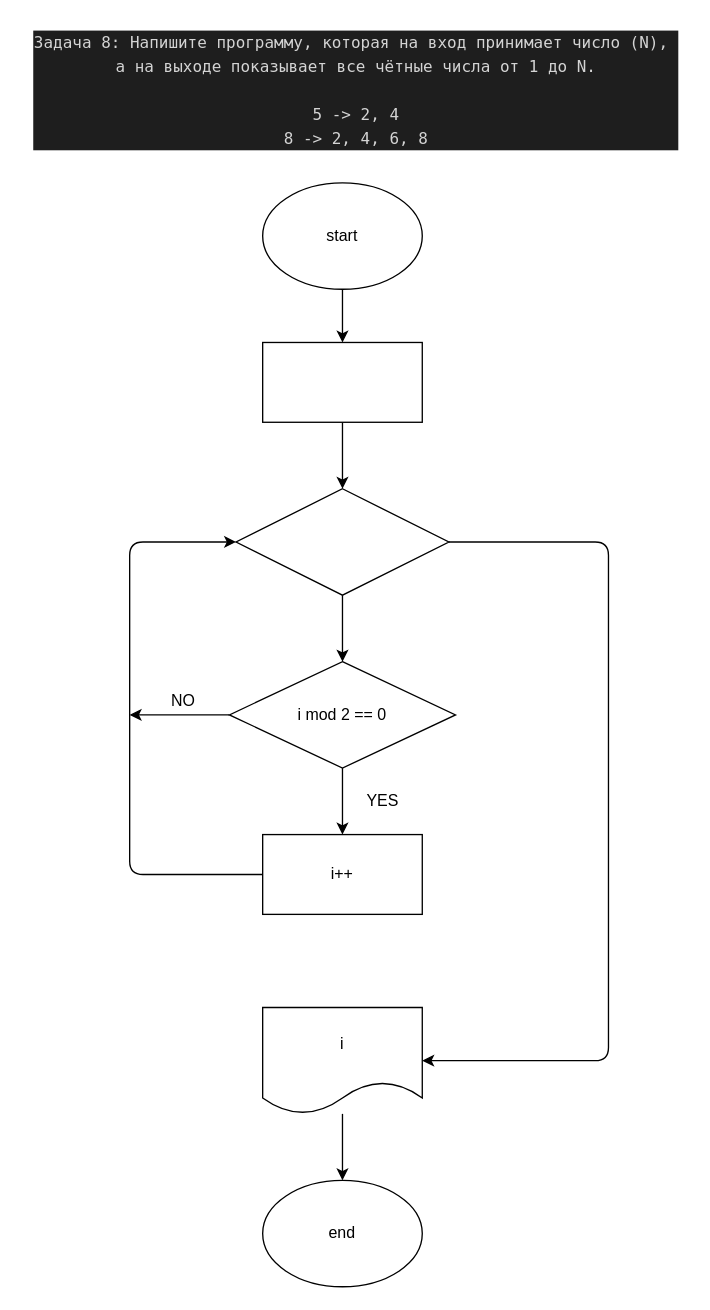
This 710x1310 diagram has some shape labels left out. Each missing label, with the centre of its shape:
N < I: point 342,541
N = 0 i = 0: point 341,381
